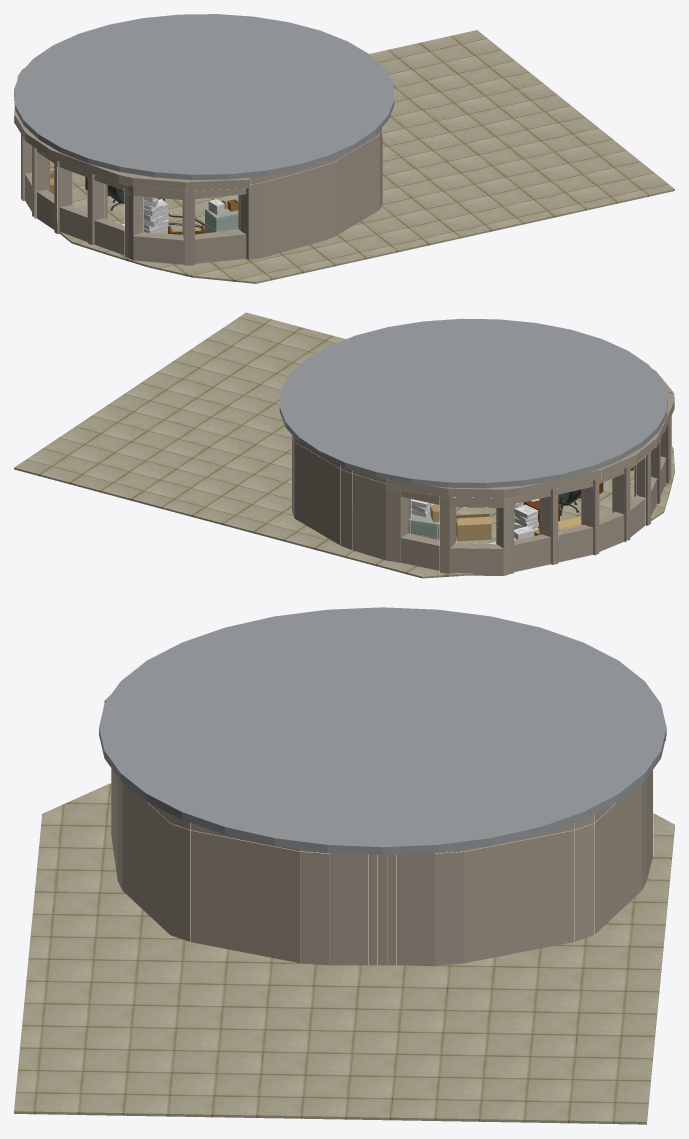
The model's file is hokage_room.glb.
The picture shows the model from 3 angles, top to bottom: view 1: azimuth 30°, elevation 25°; view 2: azimuth 150°, elevation 25°; view 3: azimuth 270°, elevation 25°; orthographic projection. The views are drawn at different scales.
Parts seen in each view (by area): view 1: Circle_132, Plane_0, Plane.001_3, Cube.001_4, Cube.005_10; view 2: Circle_132, Plane_0, Plane.001_3, Cube.001_4, Cube.101_114, Cube.086_96; view 3: Plane_0, Circle_132, Cube.001_4.
Boxes of the visible parts, bbox=[...] form: Circle_132: bbox=[14, 14, 394, 179]; Plane_0: bbox=[59, 30, 674, 283]; Plane.001_3: bbox=[14, 67, 250, 265]; Cube.001_4: bbox=[238, 127, 382, 259]; Cube.005_10: bbox=[205, 204, 238, 233]; Circle_132: bbox=[279, 318, 667, 488]; Plane_0: bbox=[14, 312, 674, 578]; Plane.001_3: bbox=[386, 369, 674, 576]; Cube.001_4: bbox=[291, 434, 411, 562]; Cube.101_114: bbox=[456, 513, 491, 541]; Cube.086_96: bbox=[408, 514, 439, 540]; Plane_0: bbox=[14, 783, 674, 1124]; Circle_132: bbox=[99, 607, 666, 854]; Cube.001_4: bbox=[111, 768, 653, 965].
Size of the model in its own units: 23.16 by 3.81 by 16.82.
Materials: 37 (14 with a texture image).
